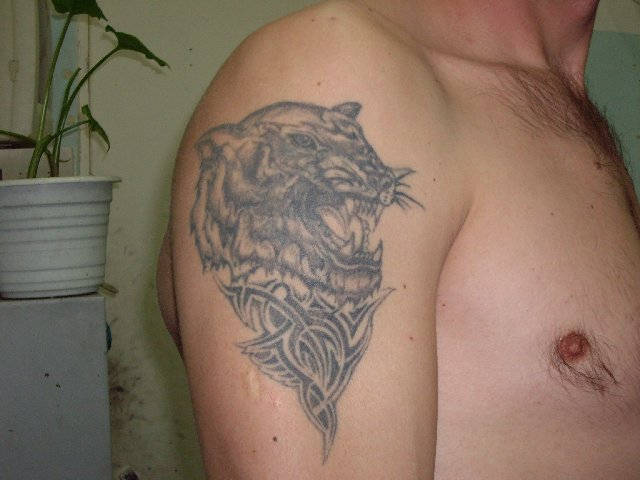tatu5_tigr: (177, 101, 425, 300)
